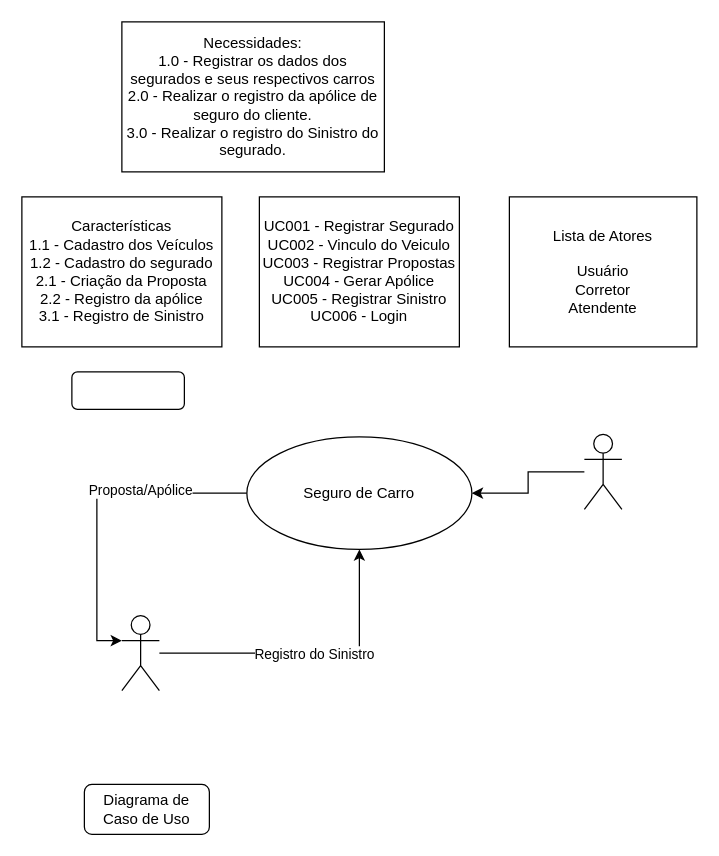
This 719x856 diagram has some shape labels left out. Each missing label, with the centre of its shape:
"Corretor" goes at point 140,652.
"Diagrama de Contexto" goes at point 127,390.
"Usuário" goes at point 602,471.
